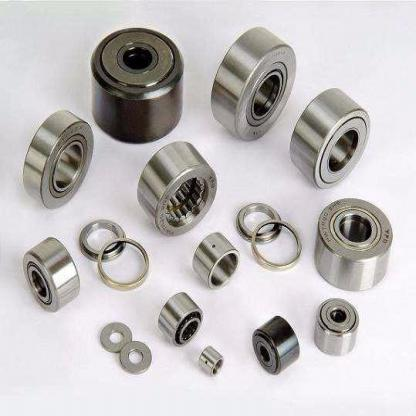FOD: (90, 24, 186, 146), (208, 25, 298, 143), (286, 84, 373, 191), (134, 139, 218, 237), (312, 194, 396, 292), (19, 108, 95, 213), (19, 233, 81, 315), (250, 314, 301, 376), (311, 296, 362, 358), (156, 289, 205, 349)
